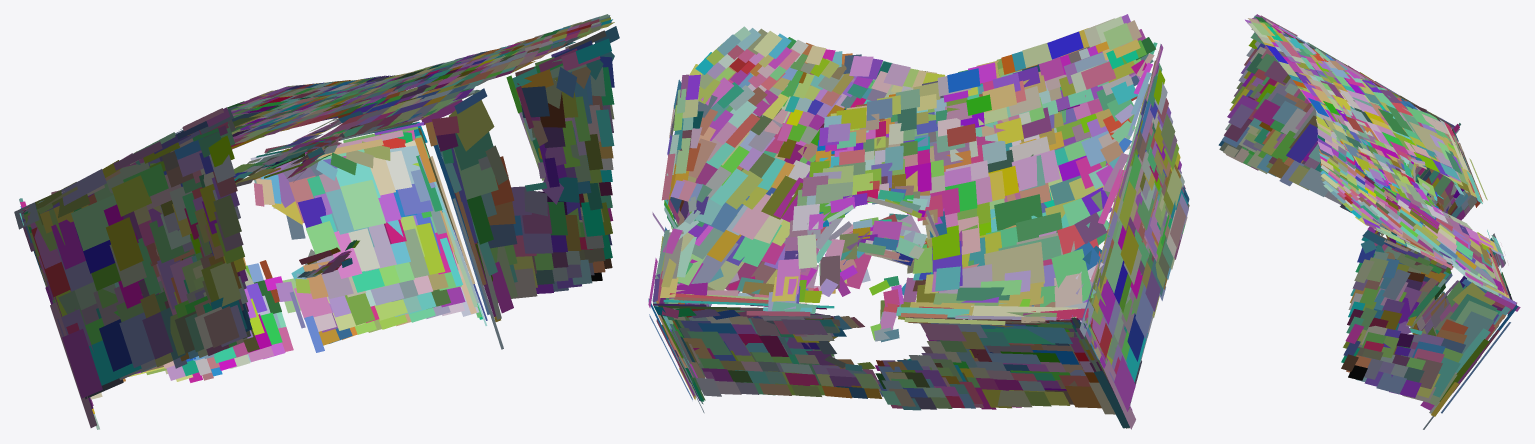
File: planarSplat_rawPrims_normalized_colorPrim.glb
The picture shows the model from 3 angles, left to right: view 1: azimuth 30°, elevation 25°; view 2: azimuth 150°, elevation 25°; view 3: azimuth 270°, elevation 25°; orthographic projection. The views are drawn at different scales.
Visible parts, largest first — view 1: planarSplat_rawPrims_normalized_colorPrim.ply; view 2: planarSplat_rawPrims_normalized_colorPrim.ply; view 3: planarSplat_rawPrims_normalized_colorPrim.ply.
Part boxes in pixels (<box>): planarSplat_rawPrims_normalized_colorPrim.ply: <box>14,14,619,429</box>; planarSplat_rawPrims_normalized_colorPrim.ply: <box>648,14,1189,429</box>; planarSplat_rawPrims_normalized_colorPrim.ply: <box>1218,14,1520,429</box>.
Bounding box in the file's own units: 2.38 × 1.91 × 1.76.
